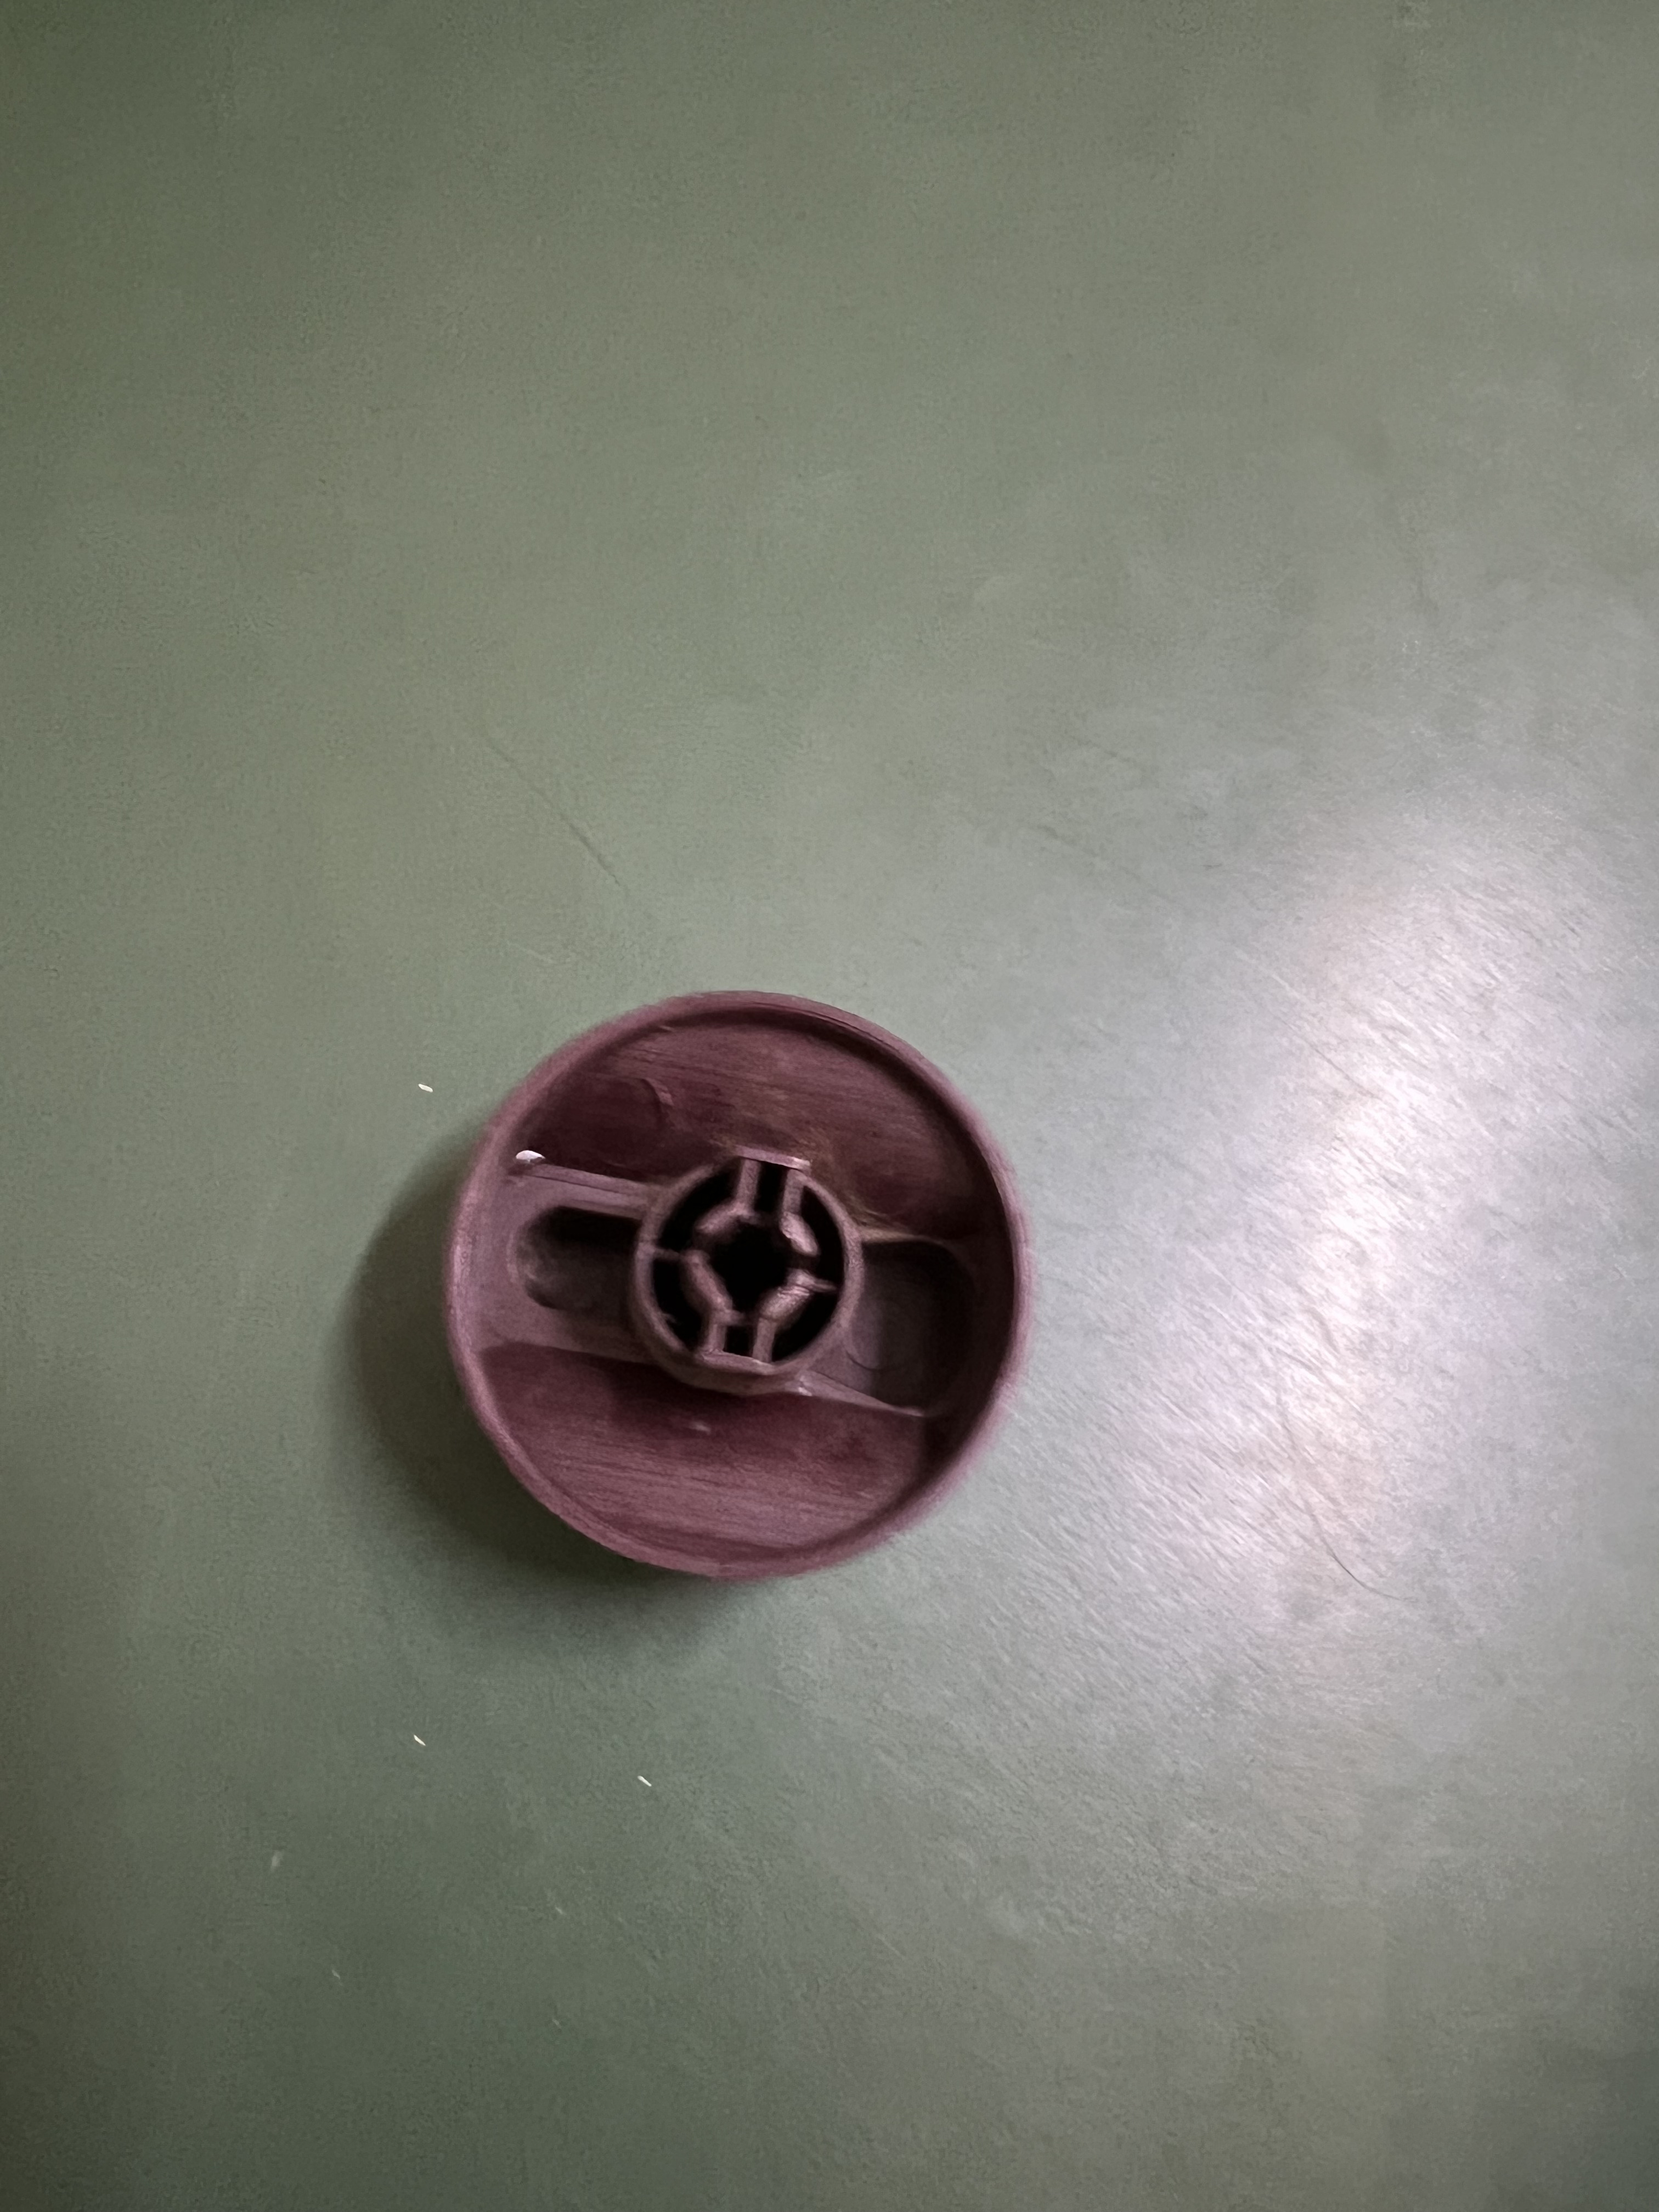regulator: (429, 977, 1039, 1578)
